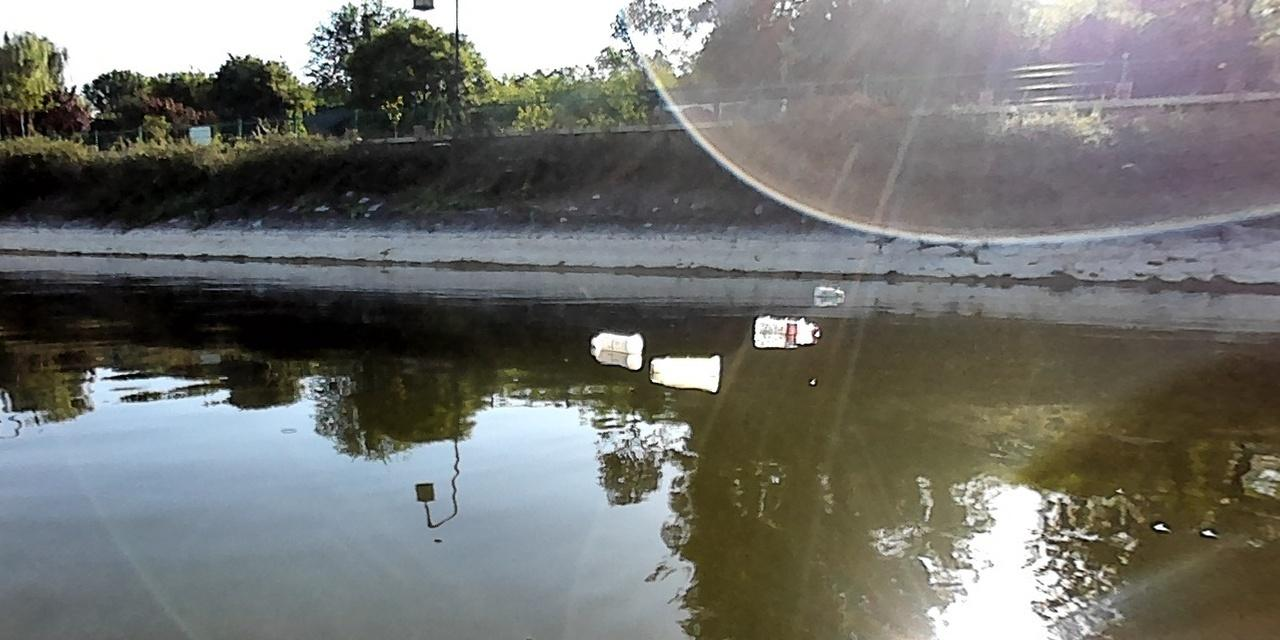bottle: (646, 350, 725, 394), (751, 312, 820, 342), (588, 330, 644, 356), (809, 282, 846, 301)
